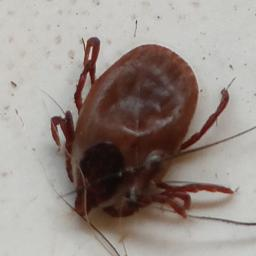Rhipicephalus sanguineus: (50, 36, 234, 220)
